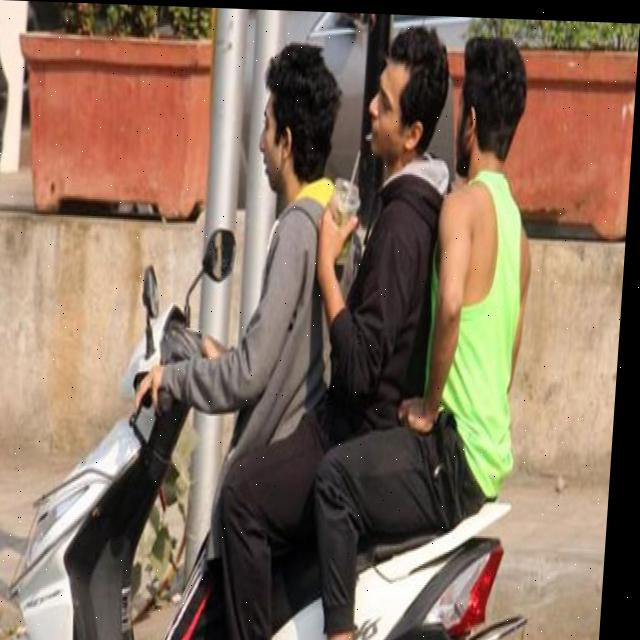without helmet: (242, 19, 538, 200)
